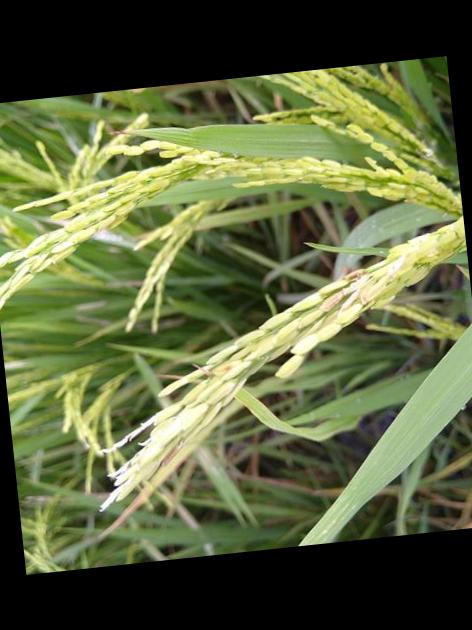Panicle Blight: (360, 256, 404, 304), (343, 259, 387, 280), (159, 440, 182, 468), (320, 288, 345, 311), (207, 359, 241, 375)
